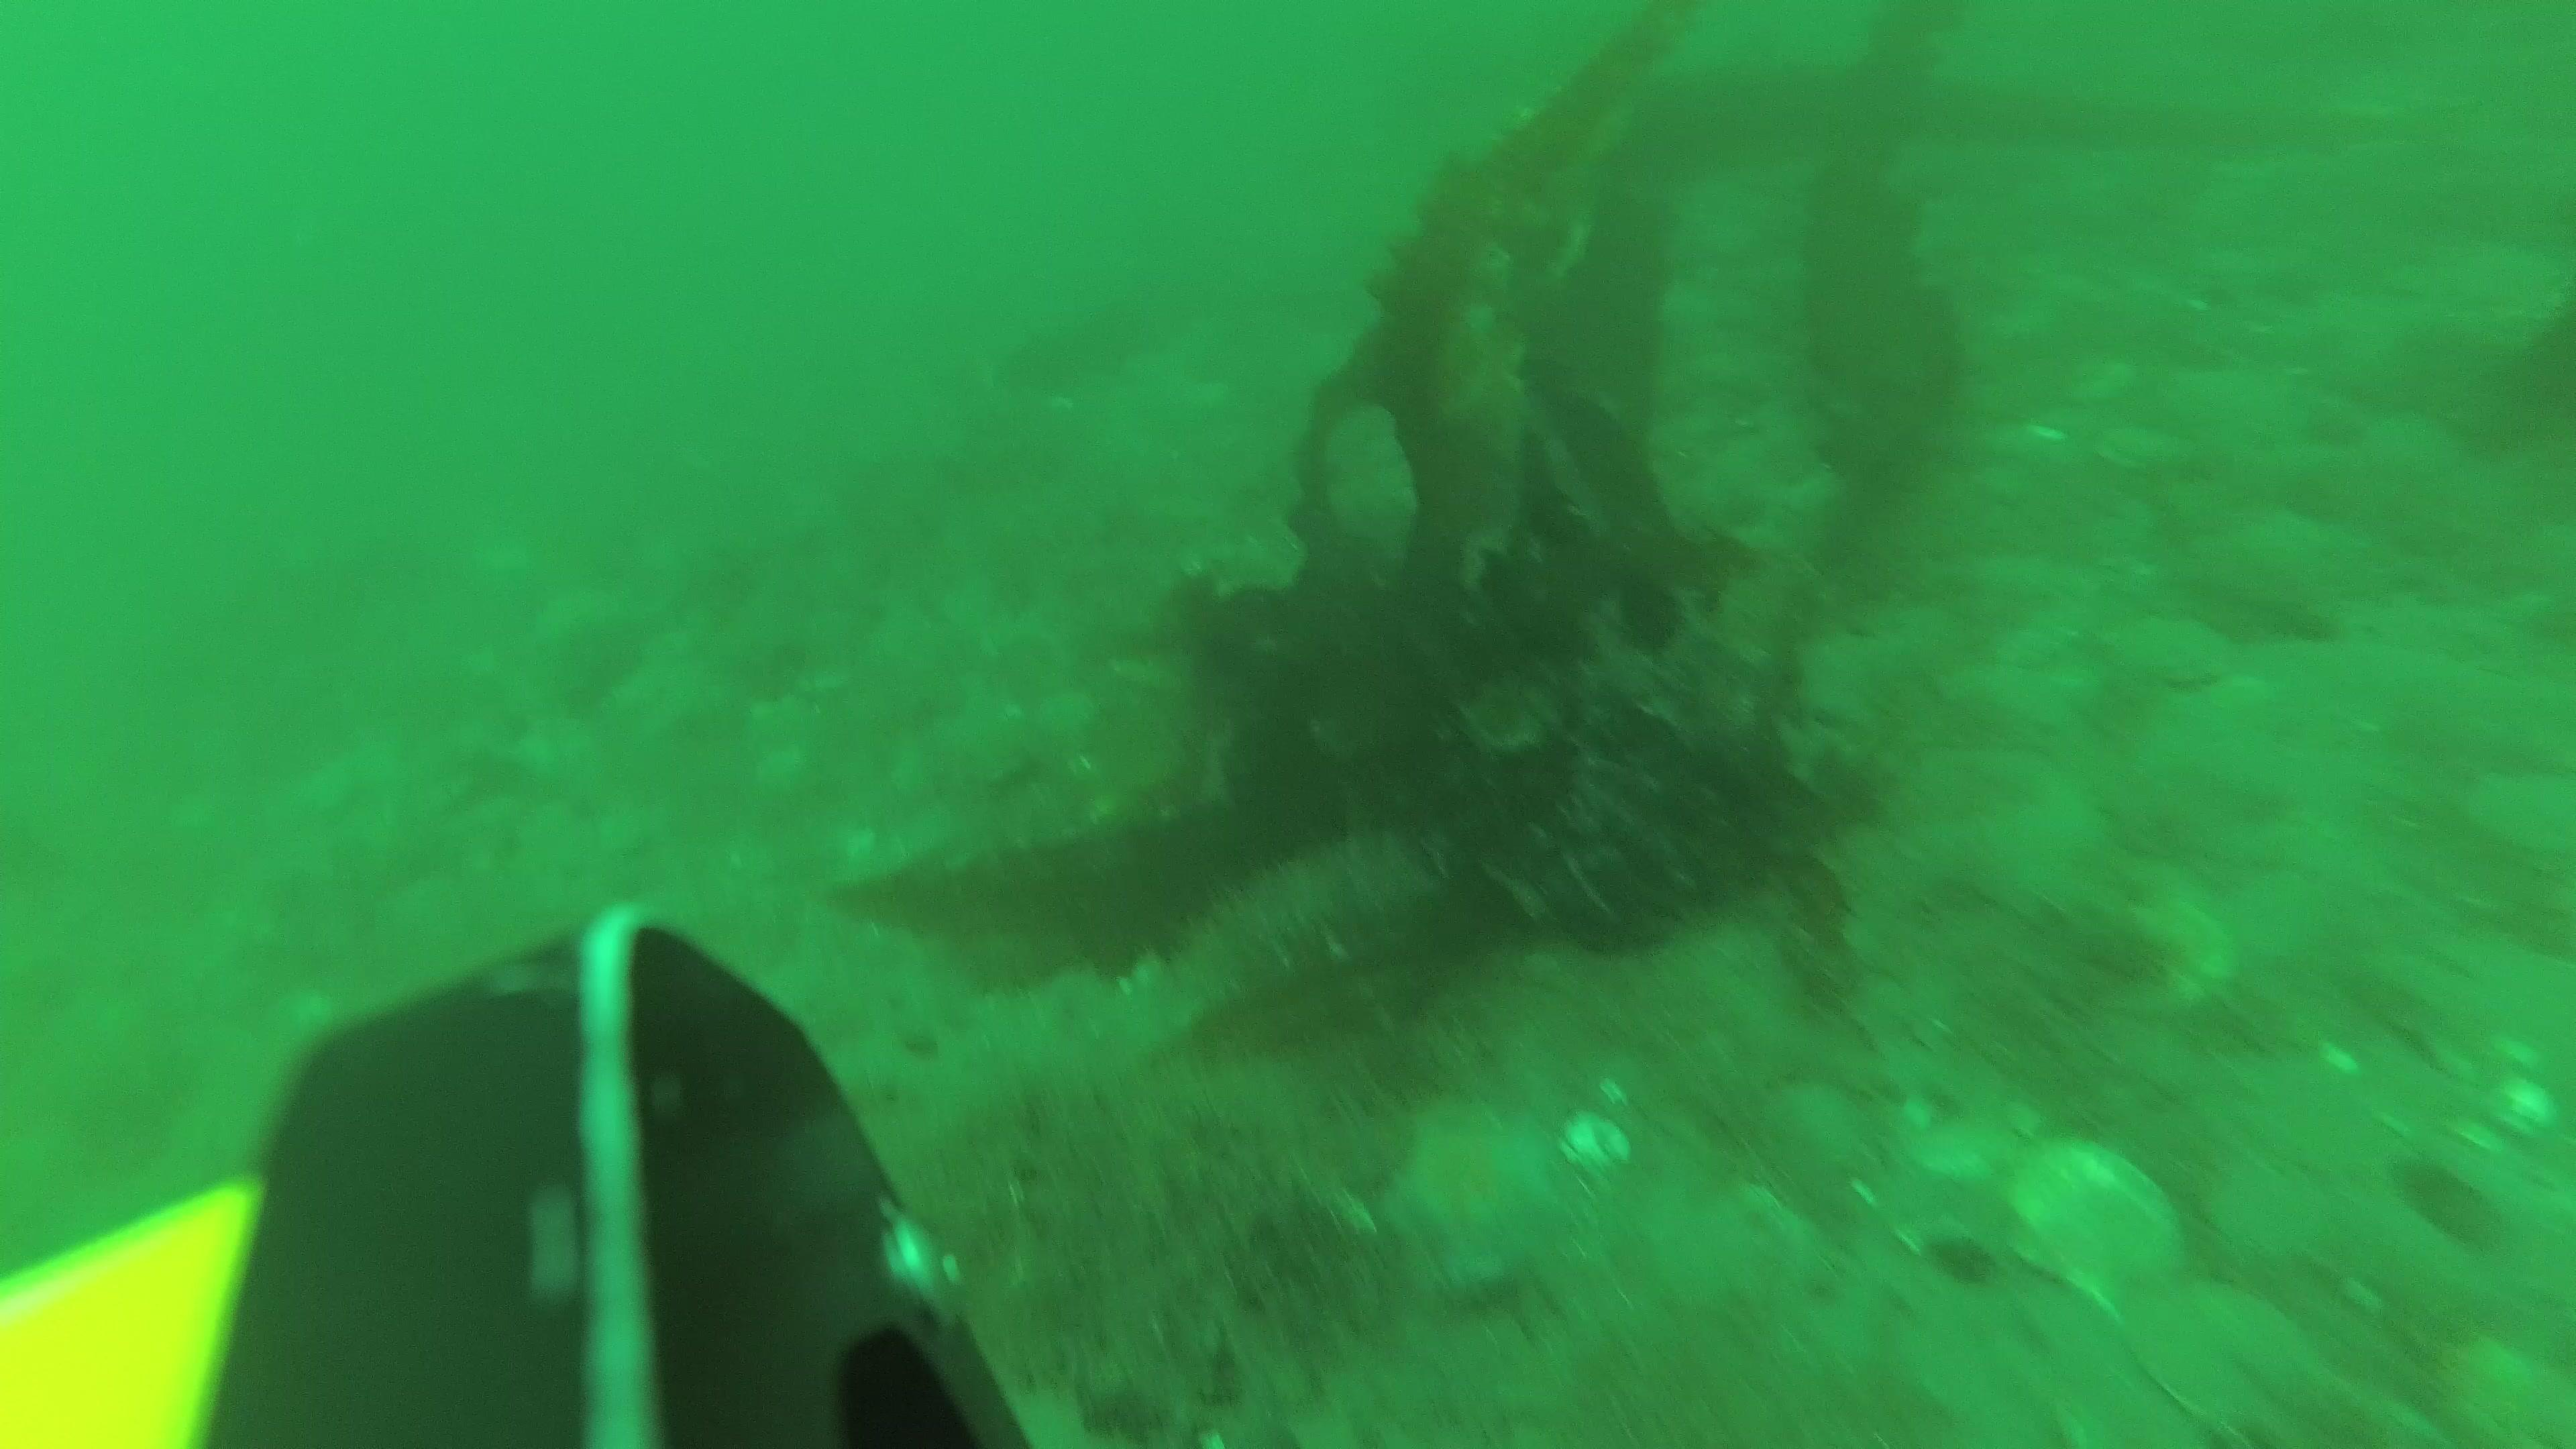echinus: (1928, 1226, 1992, 1283)
scallop: (1999, 1146, 2180, 1302), (2146, 1284, 2309, 1426), (2107, 607, 2238, 686)
starfish: (1391, 1100, 1576, 1272)
